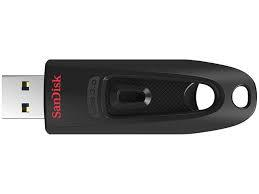USB Flash Drive: (0, 59, 258, 135)
